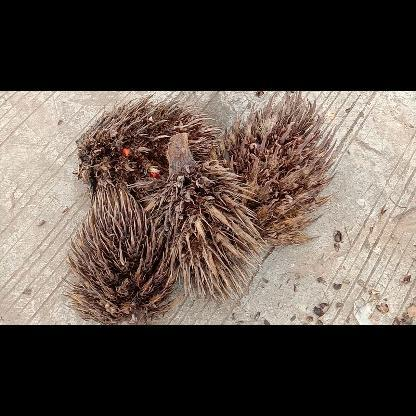Janjang kosong: (142, 134, 268, 302), (220, 91, 336, 247), (68, 182, 180, 324), (74, 94, 218, 198)
